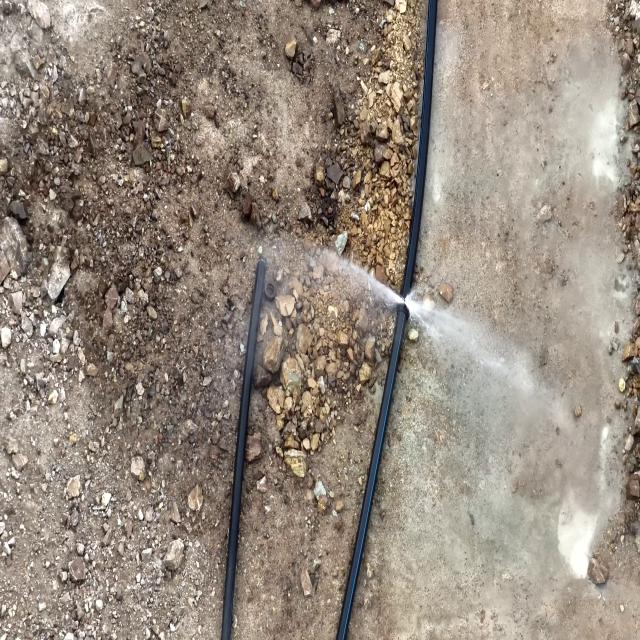leak: (293, 230, 464, 362)
